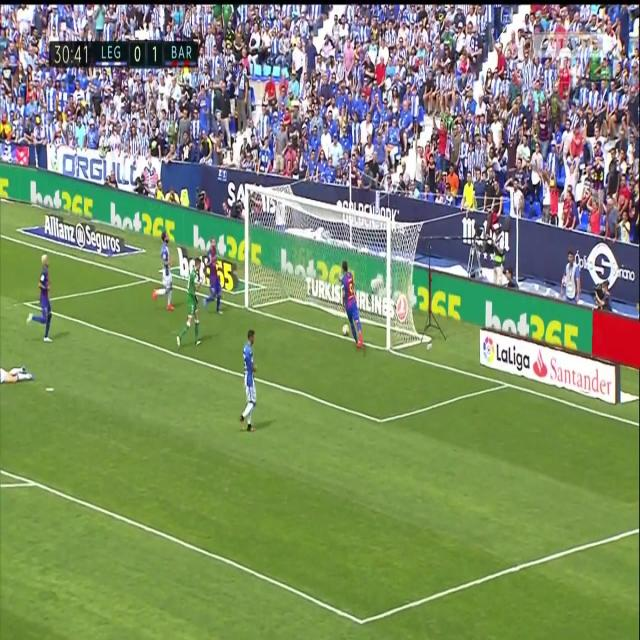Ball: (340, 321, 351, 338)
Goalkeeper: (174, 256, 204, 356)
Player: (340, 258, 368, 352), (25, 253, 53, 345), (238, 328, 260, 435), (151, 230, 176, 313), (201, 235, 225, 317), (0, 357, 37, 387)
